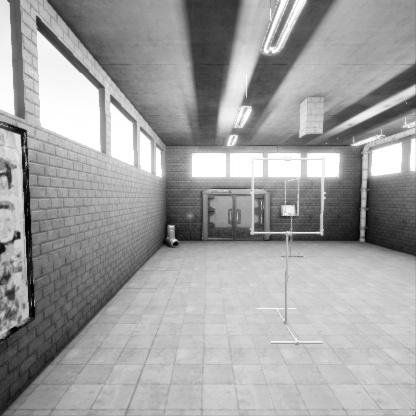gate: (252, 186, 327, 260), (284, 202, 299, 239)
